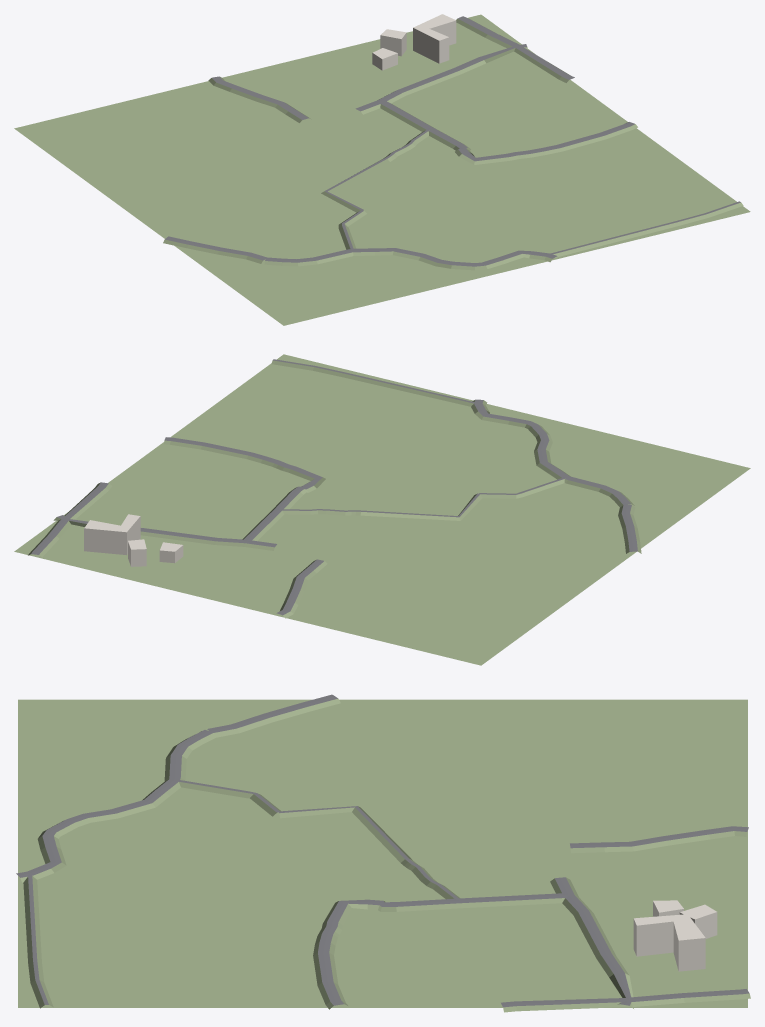
File: dhamrai_chunk_x-2_z-1.glb
3 renders of one model, top to bottom at view 1: azimuth 30°, elevation 25°; view 2: azimuth 150°, elevation 25°; view 3: azimuth 270°, elevation 25°, orthographic. The views are drawn at different scales.
Parts seen in each view (by area): view 1: terrain, embankments, roads, buildings; view 2: terrain, embankments, roads, buildings; view 3: terrain, embankments, roads, buildings.
Boxes of the visible parts, x1,y1,x2,y2 form: terrain: (14, 14, 750, 325); embankments: (163, 18, 743, 270); roads: (165, 16, 740, 266); buildings: (372, 14, 456, 70); terrain: (14, 354, 750, 665); embankments: (28, 360, 641, 618); roads: (31, 359, 637, 615); buildings: (84, 514, 183, 566); terrain: (18, 699, 747, 1007); embankments: (20, 698, 750, 1012); roads: (16, 694, 749, 1007); buildings: (633, 900, 717, 971).
Size of the model in its own units: 263 by 13.23 by 258.
